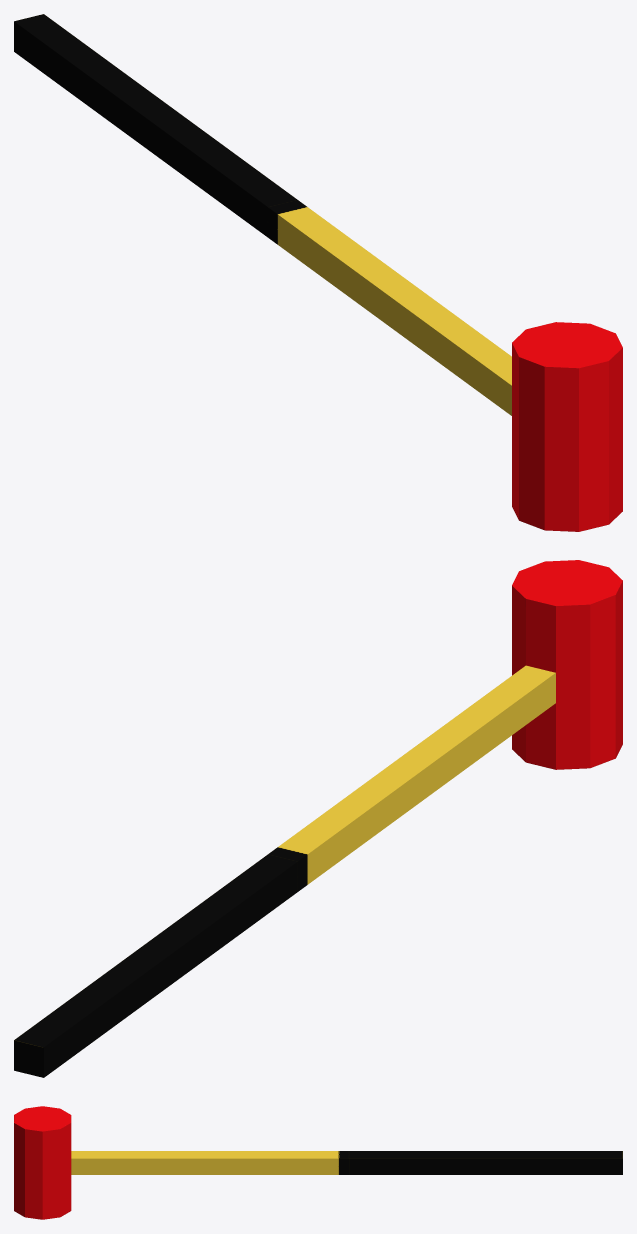
The model's file is High_strike_hammer01.fbx.
3 renders of one model, top to bottom at view 1: azimuth 30°, elevation 25°; view 2: azimuth 150°, elevation 25°; view 3: azimuth 270°, elevation 25°, orthographic. The views are drawn at different scales.
Parts seen in each view (by area): view 1: High_strike_hammer01; view 2: High_strike_hammer01; view 3: High_strike_hammer01.
Part boxes in pixels (bbox=[...]): High_strike_hammer01: bbox=[14, 14, 622, 531]; High_strike_hammer01: bbox=[14, 560, 622, 1077]; High_strike_hammer01: bbox=[14, 1106, 622, 1219].
Size of the model in its own units: 21.13 by 34.17 by 214.
Materials: 1 (1 with a texture image).
